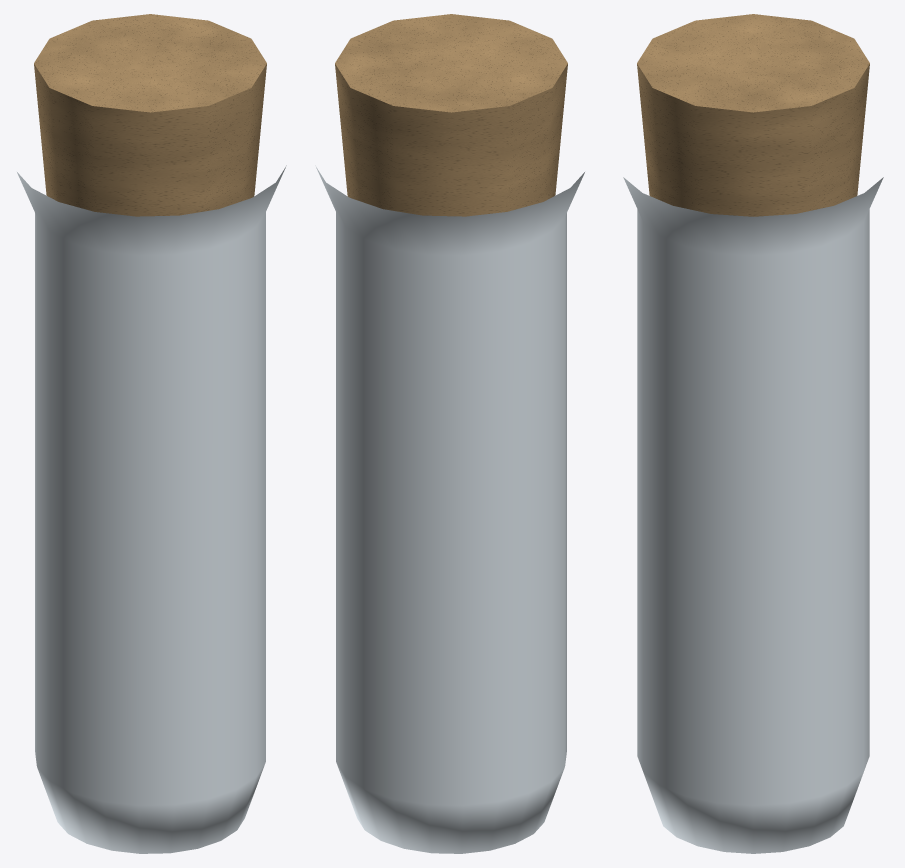
File: vial.glb
3 views of the same model, side by side, from view 1: azimuth 30°, elevation 25°; view 2: azimuth 150°, elevation 25°; view 3: azimuth 270°, elevation 25° (orthographic).
Parts seen in each view (by area): view 1: vial; view 2: vial; view 3: vial.
Boxes of the visible parts, left/top/right/bottom form: vial: left=17, top=14, right=286, bottom=853; vial: left=315, top=14, right=584, bottom=853; vial: left=623, top=14, right=883, bottom=853.
Bounding box in the file's own units: 0.052 × 0.16 × 0.052.
3 materials, 1 textured.
